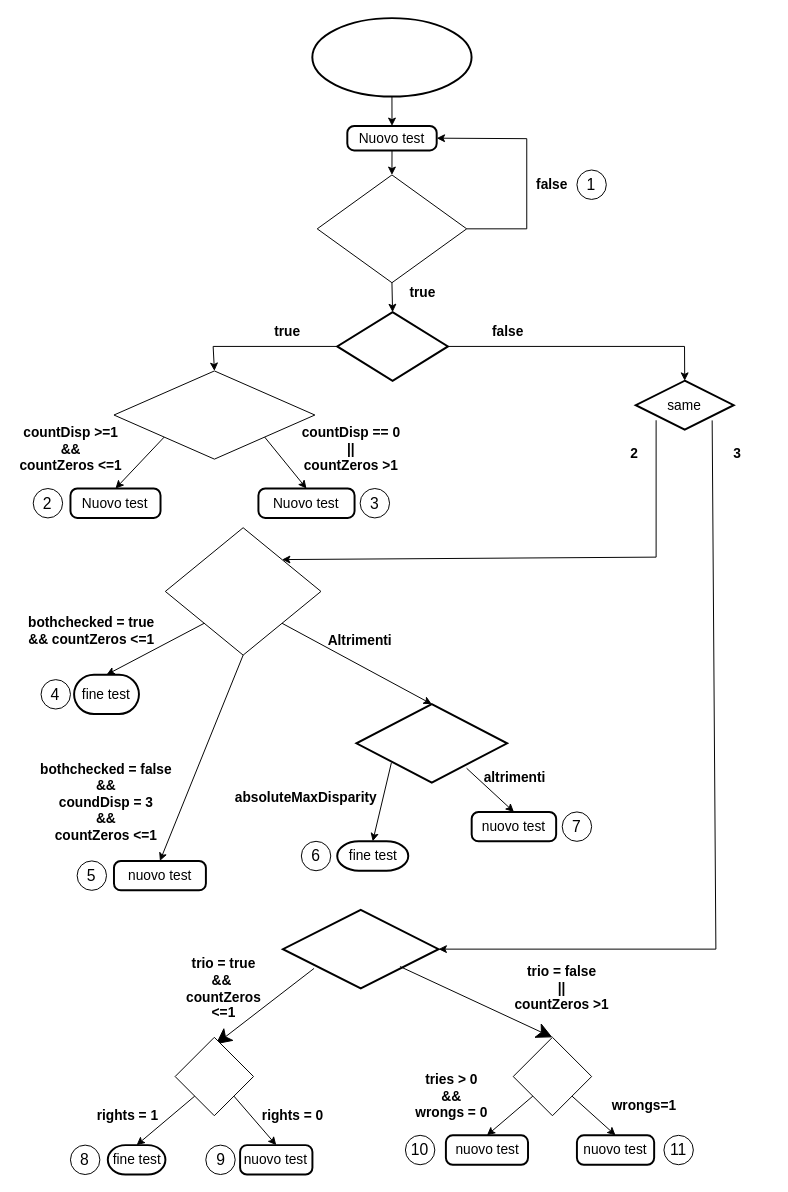
This 788x1192 diagram has some shape labels left out. Here are the shapes that lost their labels. From the top down, the centre of each, then its label:
At point 391,57: "inizializzazione absoluteMaxDisparity".
At point 391,228: "checkSequentiality".
At point 392,346: "firstPhase".
At point 214,414: "countDisp & countZeros".
At point 242,591: "bothChecked && countDisp && countZeros".
At point 431,743: "valore mediano nel vettore".
At point 360,948: "triov&& countZeros".
At point 214,1076: "tries rights".
At point 552,1076: "tries && wrongs".
